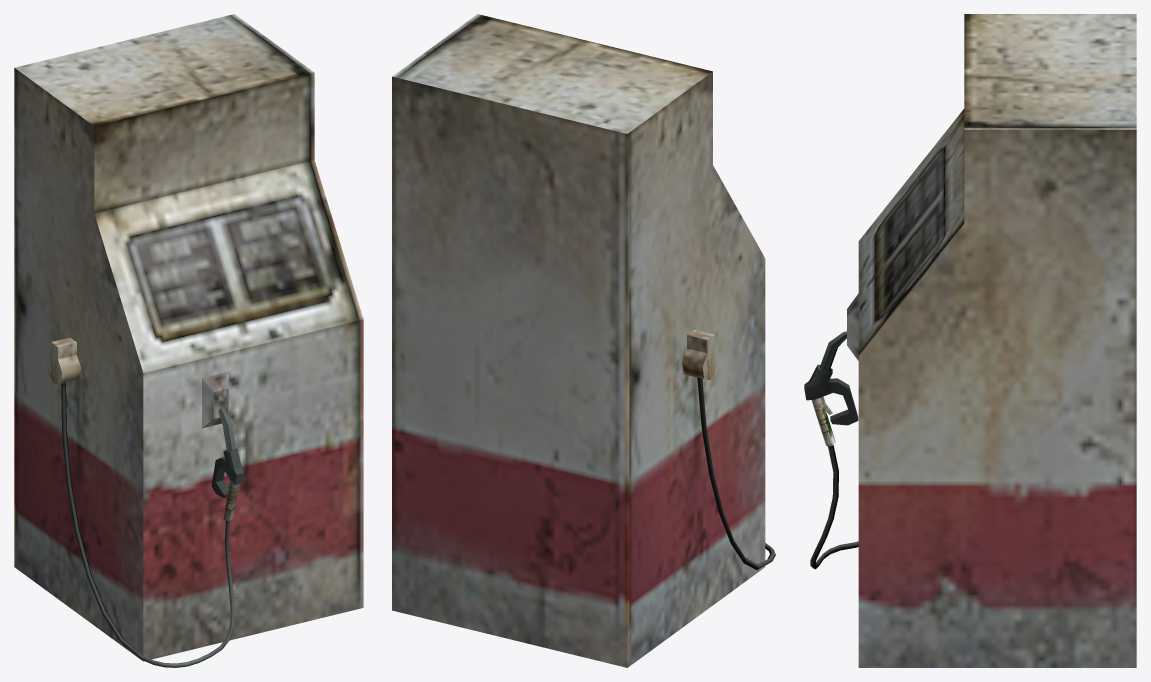
The model's file is RefuelingtableA.FBX.
3 views of the same model, side by side, from view 1: azimuth 30°, elevation 25°; view 2: azimuth 150°, elevation 25°; view 3: azimuth 270°, elevation 25° (orthographic). The views are drawn at different scales.
Parts seen in each view (by area): view 1: RefuelingtableA; view 2: RefuelingtableA; view 3: RefuelingtableA.
Boxes of the visible parts, <box> form: RefuelingtableA: <box>14,14,363,667</box>; RefuelingtableA: <box>392,14,775,667</box>; RefuelingtableA: <box>804,14,1136,667</box>.
Size of the model in its own units: 78.7 by 157 by 87.89.
